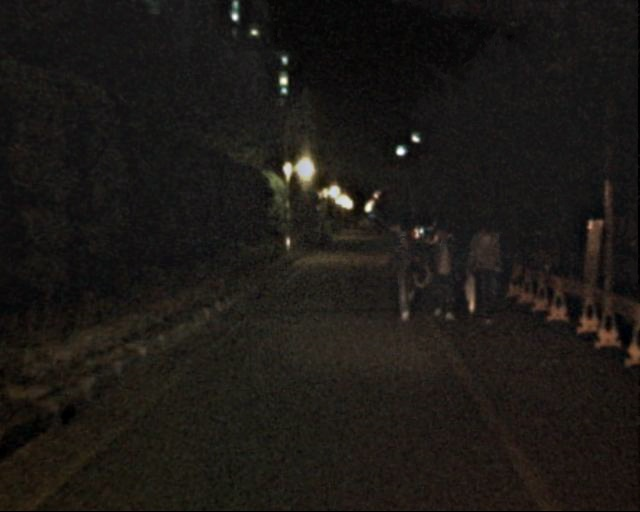person: (460, 225, 502, 327), (420, 229, 458, 322), (383, 230, 420, 320), (479, 221, 516, 311)
